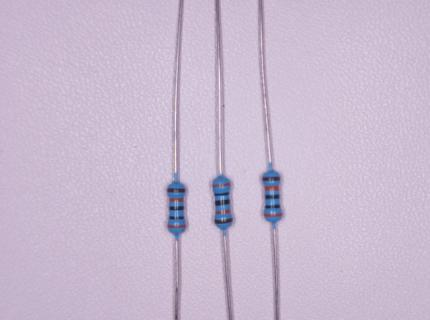Black band: (215, 199, 230, 207), (213, 191, 230, 197), (264, 204, 280, 210), (265, 194, 280, 200), (169, 206, 185, 211), (169, 215, 185, 220)
Brown band: (213, 218, 233, 224), (262, 176, 281, 182), (166, 188, 185, 193)
Orange band: (212, 182, 231, 188), (167, 224, 187, 229), (215, 209, 231, 215), (264, 185, 279, 191), (263, 213, 283, 217), (168, 198, 184, 203)
